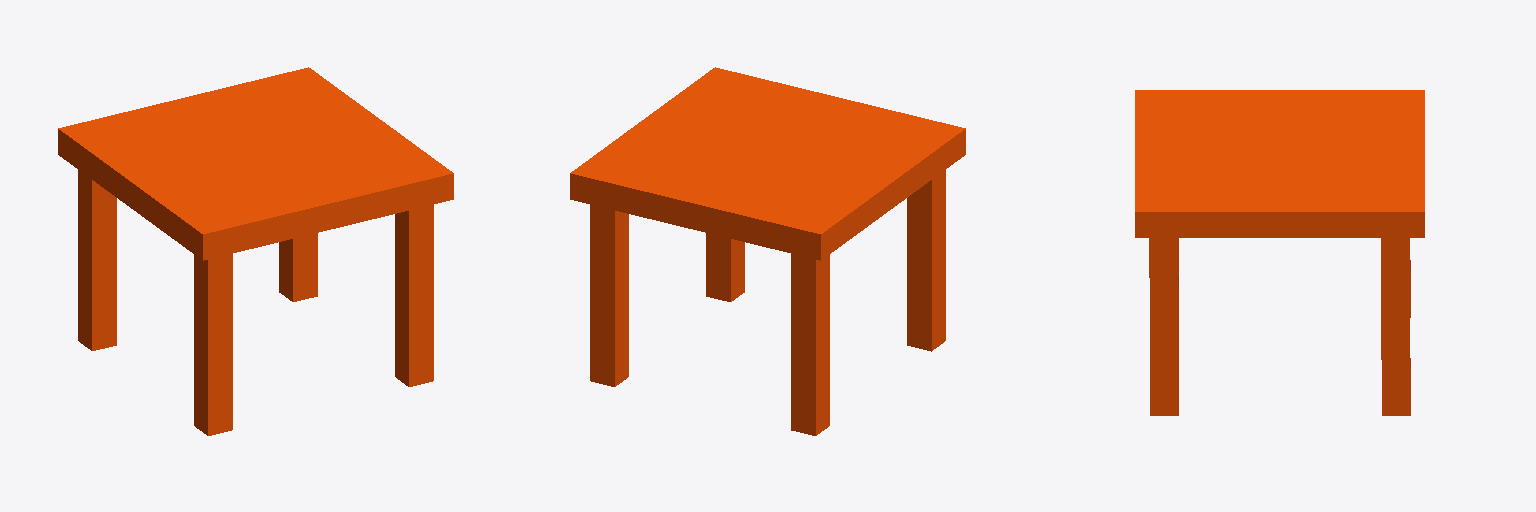
File: table.obj
3 renders of one model, left to right at view 1: azimuth 30°, elevation 25°; view 2: azimuth 150°, elevation 25°; view 3: azimuth 270°, elevation 25°, orthographic.
Parts seen in each view (by area): view 1: Cube, Cube.001, Cube.003, Cube.004, Cube.002; view 2: Cube, Cube.004, Cube.002, Cube.001, Cube.003; view 3: Cube, Cube.002, Cube.003.
Boxes of the visible parts, box(x1,y1,x2,y2) form: Cube: box(58, 67, 453, 260); Cube.001: box(194, 254, 232, 435); Cube.003: box(395, 205, 433, 386); Cube.004: box(78, 170, 116, 350); Cube.002: box(279, 233, 317, 301); Cube: box(570, 67, 965, 260); Cube.004: box(791, 254, 829, 435); Cube.002: box(590, 205, 628, 386); Cube.001: box(907, 170, 945, 351); Cube.003: box(706, 233, 744, 301); Cube: box(1135, 90, 1424, 237); Cube.002: box(1381, 238, 1410, 415); Cube.003: box(1149, 238, 1178, 415).
Size of the model in its own units: 1 by 0.8 by 1.